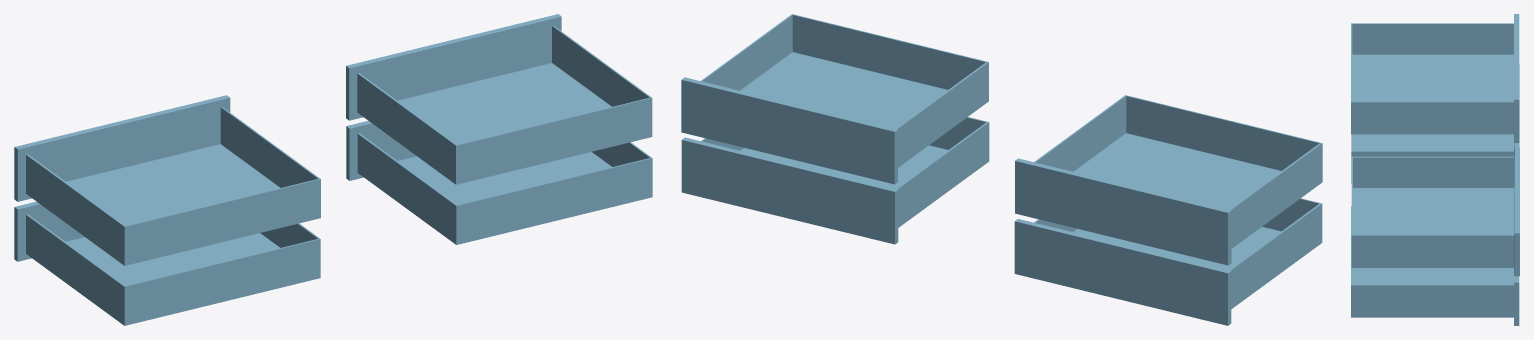
File: drawer.fbx
The picture shows the model from 3 angles, left to right: view 1: azimuth 30°, elevation 25°; view 2: azimuth 150°, elevation 25°; view 3: azimuth 270°, elevation 25°; orthographic projection. The views are drawn at different scales.
Visible parts, largest first — view 1: drawer_R1_geo, drawer_L1_geo, drawer_L2_geo, drawer_R2_geo; view 2: drawer_R1_geo, drawer_L1_geo, drawer_R2_geo, drawer_L2_geo; view 3: drawer_L1_geo, drawer_R1_geo, drawer_L2_geo, drawer_R2_geo.
Boxes of the visible parts, left/top/right/bottom form: drawer_R1_geo: left=14, top=95, right=320, bottom=265; drawer_L1_geo: left=346, top=14, right=652, bottom=184; drawer_L2_geo: left=346, top=120, right=652, bottom=244; drawer_R2_geo: left=14, top=201, right=320, bottom=325; drawer_R1_geo: left=1015, top=95, right=1322, bottom=265; drawer_L1_geo: left=681, top=14, right=988, bottom=184; drawer_R2_geo: left=1014, top=198, right=1322, bottom=325; drawer_L2_geo: left=681, top=117, right=989, bottom=244; drawer_L1_geo: left=1351, top=147, right=1519, bottom=276; drawer_R1_geo: left=1351, top=14, right=1519, bottom=142; drawer_L2_geo: left=1351, top=206, right=1519, bottom=325; drawer_R2_geo: left=1351, top=64, right=1519, bottom=183.
Size of the model in its own units: 183 by 36.12 by 59.48.
